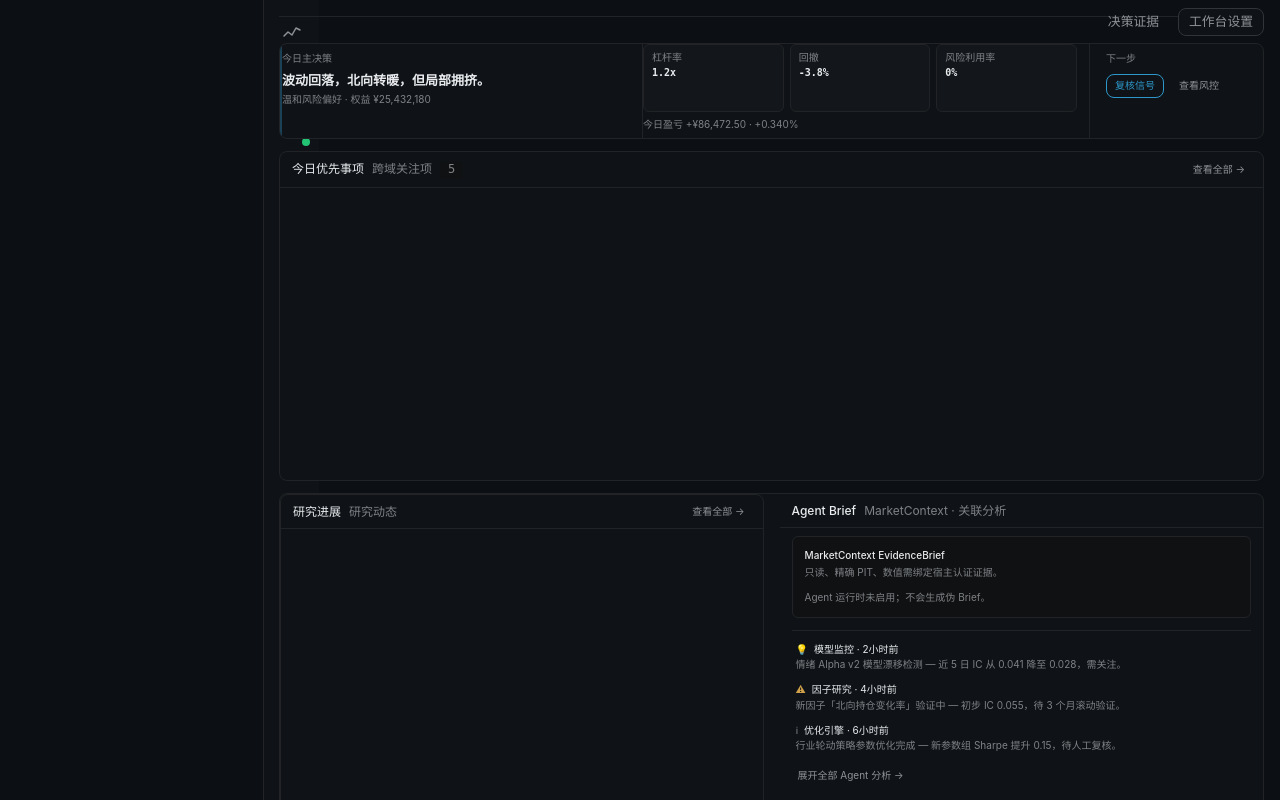
Scenario: HomePage › AI 建议 overlay 明确是只读后端证据摘要
Step 1. Click the button "决策证据" → click(1133, 22), box [1097,8,1170,36]
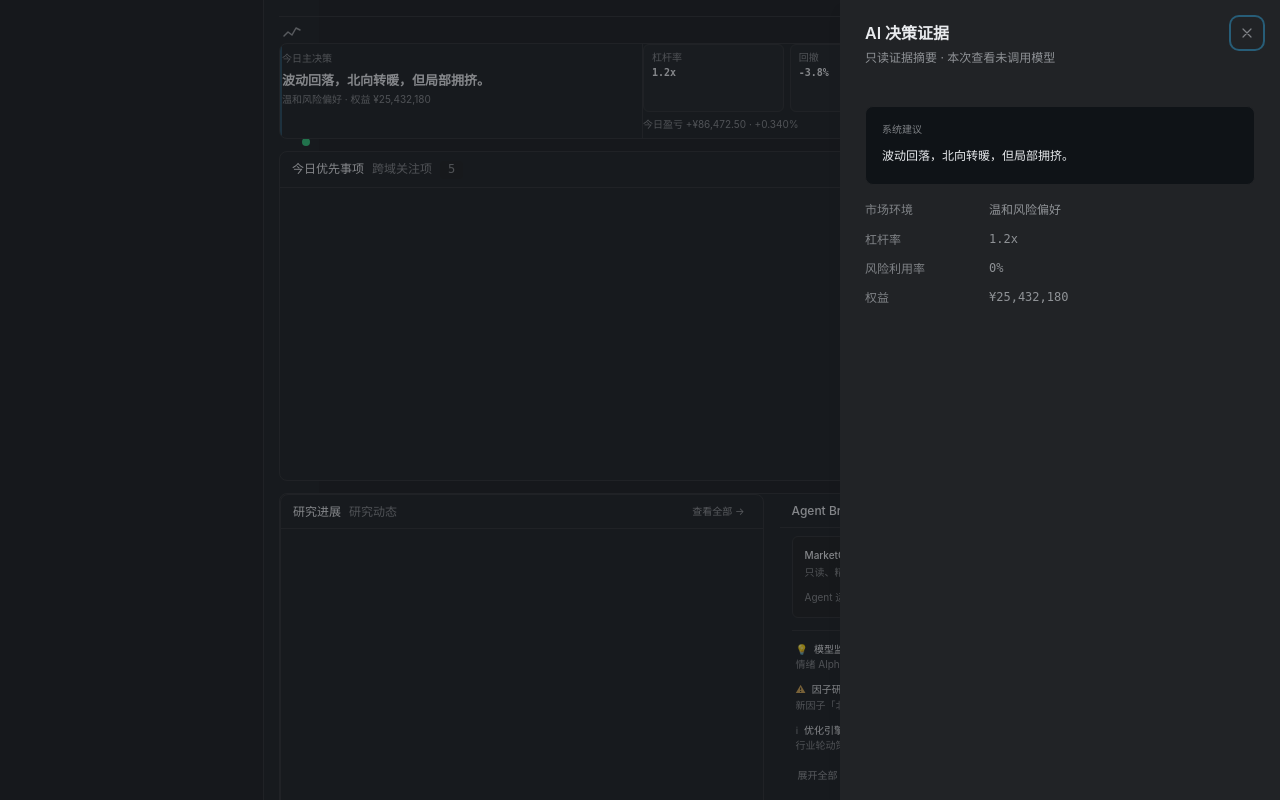
expect the dialog "AI 决策证据" shows "只读证据摘要": met, box [865,50,1055,65]
expect the dialog "AI 决策证据" shows "未调用模型": met, box [865,50,1055,65]
